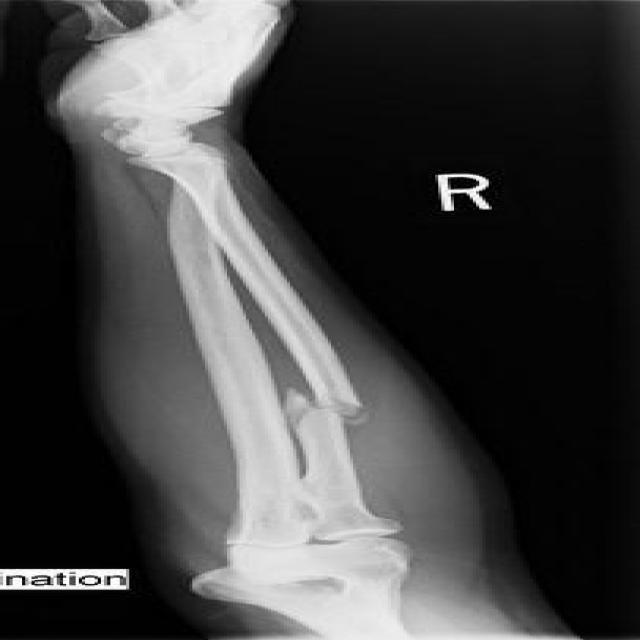bone: (223, 185, 420, 288)
